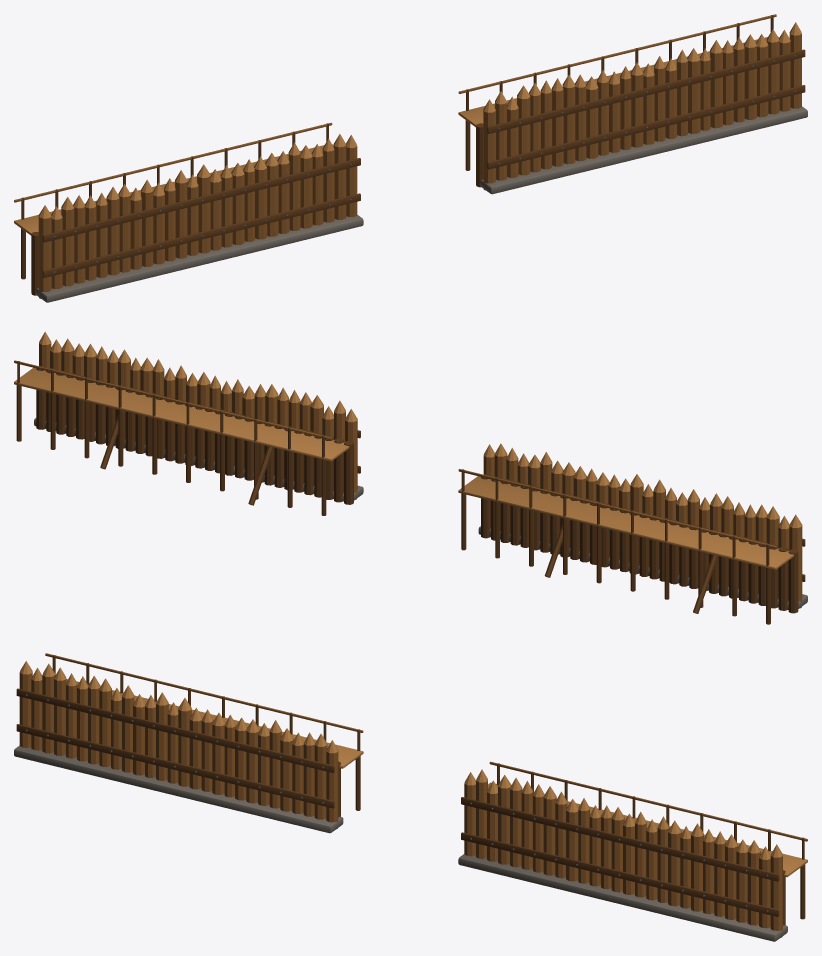
The model's file is mur_front_2.glb.
3 renders of one model, top to bottom at view 1: azimuth 30°, elevation 25°; view 2: azimuth 150°, elevation 25°; view 3: azimuth 330°, elevation 25°, orthographic.
Parts seen in each view (by area): view 1: mur_front_2; view 2: mur_front_2; view 3: mur_front_2.
Part boxes in pixels (<box>): mur_front_2: <box>14,14,807,302</box>; mur_front_2: <box>14,331,807,624</box>; mur_front_2: <box>14,653,807,941</box>.
Size of the model in its own units: 36.09 by 4.37 by 3.29.
